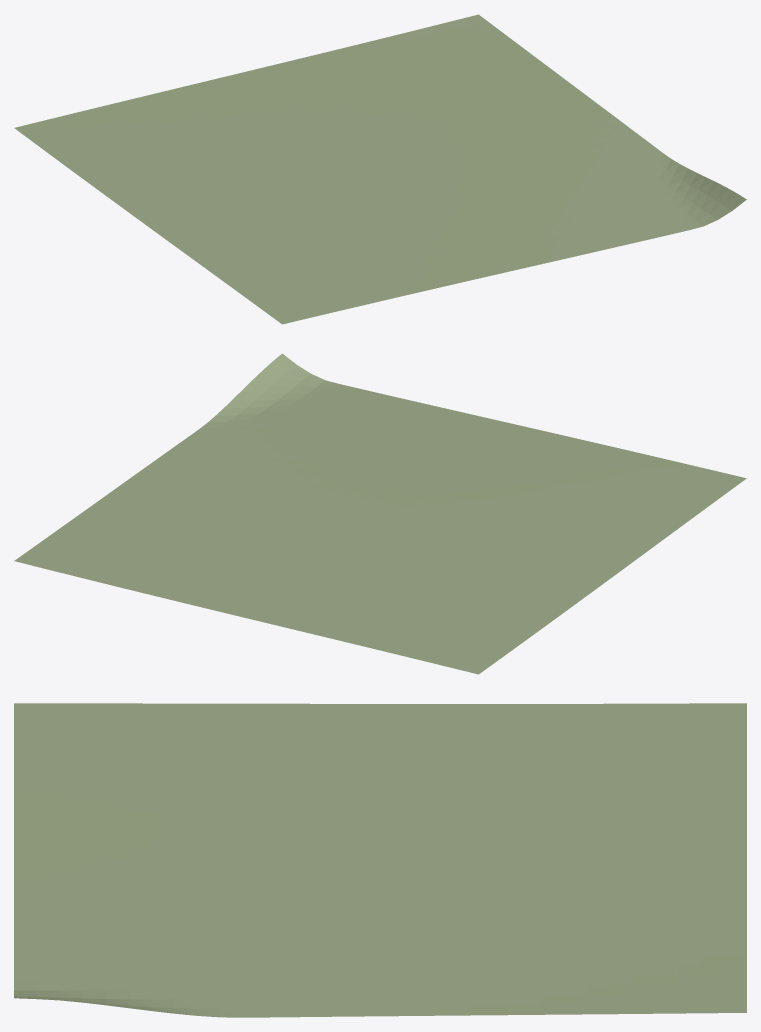
File: desert-18-26.glb
The picture shows the model from 3 angles, top to bottom: view 1: azimuth 30°, elevation 25°; view 2: azimuth 150°, elevation 25°; view 3: azimuth 270°, elevation 25°; orthographic projection. The views are drawn at different scales.
Visible parts, largest first — view 1: desert-18-26; view 2: desert-18-26; view 3: desert-18-26.
Boxes of the visible parts, <box> form: desert-18-26: <box>14,14,746,324</box>; desert-18-26: <box>14,353,746,674</box>; desert-18-26: <box>14,703,746,1017</box>.
Size of the model in its own units: 512 by 17.47 by 512.
